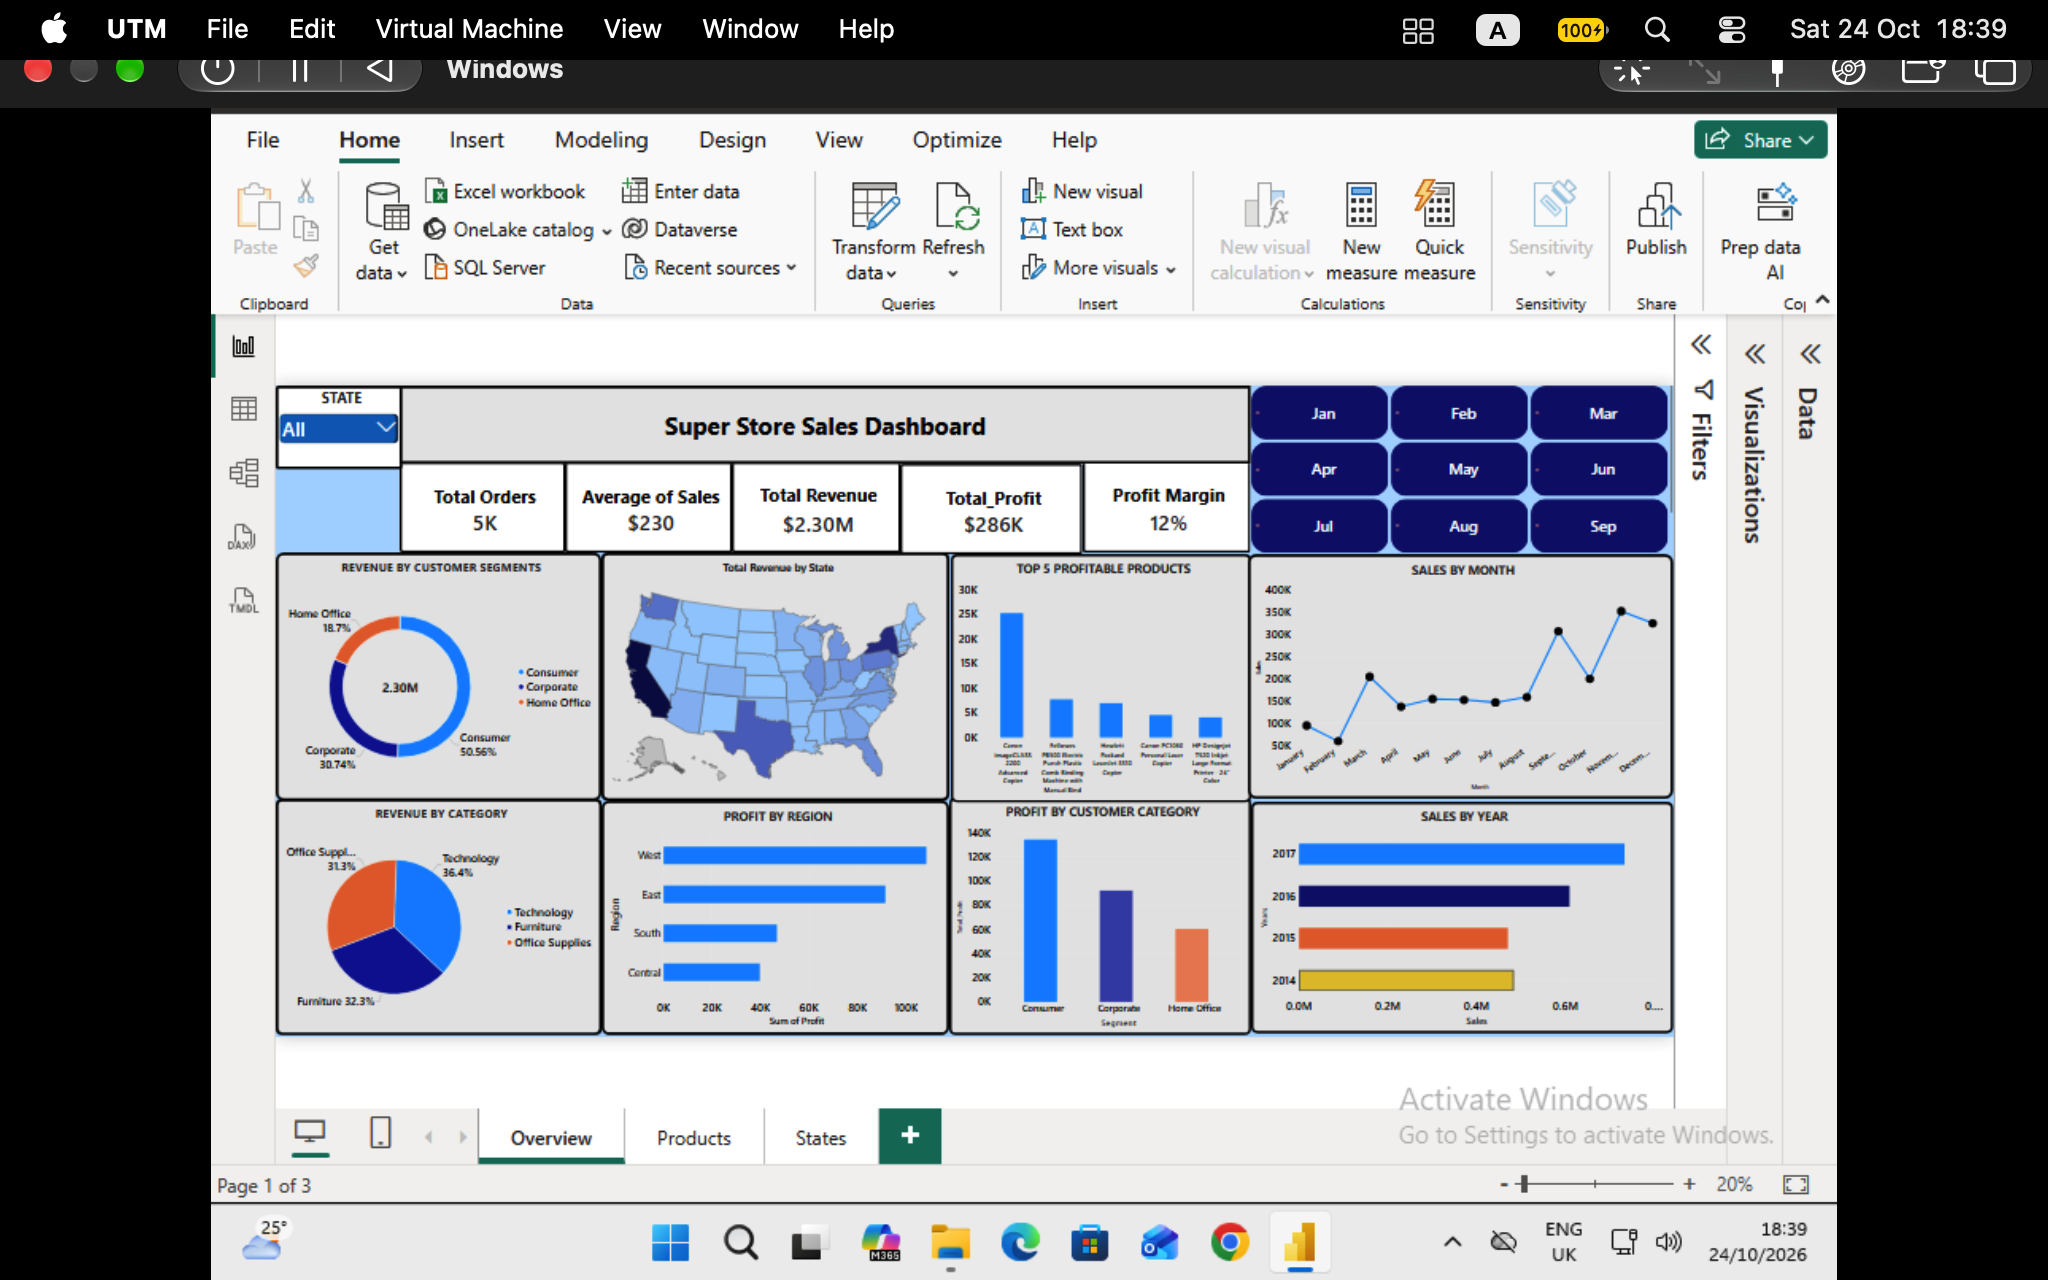

Layout of this report page (visuals, bound fields, positions):
{"tool":"powerbi","page":{"name":"Overview","canvas":[4300,2000],"ordinal":0},"visuals":[{"type":"cardVisual","fields":{"Data":["Sample - Superstore (2).Total Revenue"]},"box":[1403.1,234.7,520.4,280.6],"z":0},{"type":"clusteredColumnChart","title":"PROFIT BY CUSTOMER CATEGORY","fields":{"Category":["Sample - Superstore (2).Segment"],"Y":["Sample - Superstore (2).Total_Profit"]},"box":[2072,1268,928,732],"z":1000},{"type":"barChart","title":"PROFIT BY REGION","fields":{"Category":["Sample - Superstore (2).Region"],"Y":["Sum(Sample - Superstore (2).Profit)"]},"box":[1002.3,1275,1070,721.8],"z":2000},{"type":"pieChart","title":"REVENUE BY CATEGORY","fields":{"Category":["Sample - Superstore (2).Category"],"Y":["Sum(Sample - Superstore (2).Sales)"]},"box":[0,1269.6,1003.4,727],"z":3000},{"type":"cardVisual","fields":{"Data":["Sample - Superstore (2).Profit Margin"]},"box":[2484,232,516,284],"z":4000},{"type":"cardVisual","fields":{"Data":["Avg(Sample - Superstore (2).Sales)"]},"box":[889.3,233.6,515.3,280.6],"z":5000},{"type":"cardVisual","fields":{"Data":["Sample - Superstore (2).Total_Profit"]},"box":[1922.1,237.7,561.2,280.6],"z":6000},{"type":"cardVisual","fields":{"Data":["Count(Sample - Superstore (2).Order ID)"]},"box":[382.7,234.7,510.2,280.6],"z":7000},{"type":"donutChart","title":"REVENUE BY CUSTOMER  SEGMENTS","fields":{"Category":["Sample - Superstore (2).Segment"],"Y":["Sample - Superstore (2).Total Revenue"]},"box":[0,511.4,1002.3,763.6],"z":8000},{"type":"clusteredColumnChart","title":"TOP 5 PROFITABLE  PRODUCTS","fields":{"Category":["Sample - Superstore (2).Product Name"],"Y":["Sample - Superstore (2).Total_Profit"]},"box":[2076,516,924,764],"z":9000},{"type":"slicer","title":"STATE","fields":{"Values":["Sample - Superstore (2).State"]},"box":[0,0,388.8,256.6],"z":10000},{"type":"shapeMap","fields":{"Category":["Sample - Superstore (2).State"],"Value":["Sample - Superstore (2).Total Revenue"]},"box":[1002.3,511.4,1070.5,763.6],"z":11000},{"type":"shape","box":[382.7,0,2617.3,239.8],"z":12000},{"type":"lineChart","title":"SALES BY MONTH","fields":{"Category":["Data.Order Date.Variation.Date Hierarchy.Month"],"Y":["Sum(Data.Sales)"]},"box":[2992.2,519.1,1307.8,753.1],"z":13000},{"type":"clusteredBarChart","title":"SALES BY  YEAR","fields":{"Category":["Data.Order Date.Variation.Date Hierarchy.Year"],"Y":["Sum(Data.Sales)"]},"box":[3002.4,1282.4,1297.6,712.4],"z":14000},{"type":"advancedSlicerVisual","fields":{"Values":["Data.Month"]},"box":[3002,0,1298,516.7],"z":15000}]}

Visuals, with their boxes on the page's 4300x2000 design canvas (x1, y1, x2, y2). These are canvas units, not pixel positions in the 2048x1280 screenshot, which may show the page scaled, cropped or inside an application window:
cardVisual - Sample - Superstore (2).Total Revenue: (1403, 235, 1924, 515)
"PROFIT BY CUSTOMER CATEGORY" clusteredColumnChart: (2072, 1268, 3000, 2000)
"PROFIT BY REGION" barChart: (1002, 1275, 2072, 1997)
"REVENUE BY CATEGORY" pieChart: (0, 1270, 1003, 1997)
cardVisual - Sample - Superstore (2).Profit Margin: (2484, 232, 3000, 516)
cardVisual - Avg(Sample - Superstore (2).Sales): (889, 234, 1405, 514)
cardVisual - Sample - Superstore (2).Total_Profit: (1922, 238, 2483, 518)
cardVisual - Count(Sample - Superstore (2).Order ID): (383, 235, 893, 515)
"REVENUE BY CUSTOMER  SEGMENTS" donutChart: (0, 511, 1002, 1275)
"TOP 5 PROFITABLE  PRODUCTS" clusteredColumnChart: (2076, 516, 3000, 1280)
"STATE" slicer: (0, 0, 389, 257)
shapeMap - Sample - Superstore (2).State x Sample - Superstore (2).Total Revenue: (1002, 511, 2073, 1275)
shape: (383, 0, 3000, 240)
"SALES BY MONTH" lineChart: (2992, 519, 4300, 1272)
"SALES BY  YEAR" clusteredBarChart: (3002, 1282, 4300, 1995)
advancedSlicerVisual - Data.Month: (3002, 0, 4300, 517)
